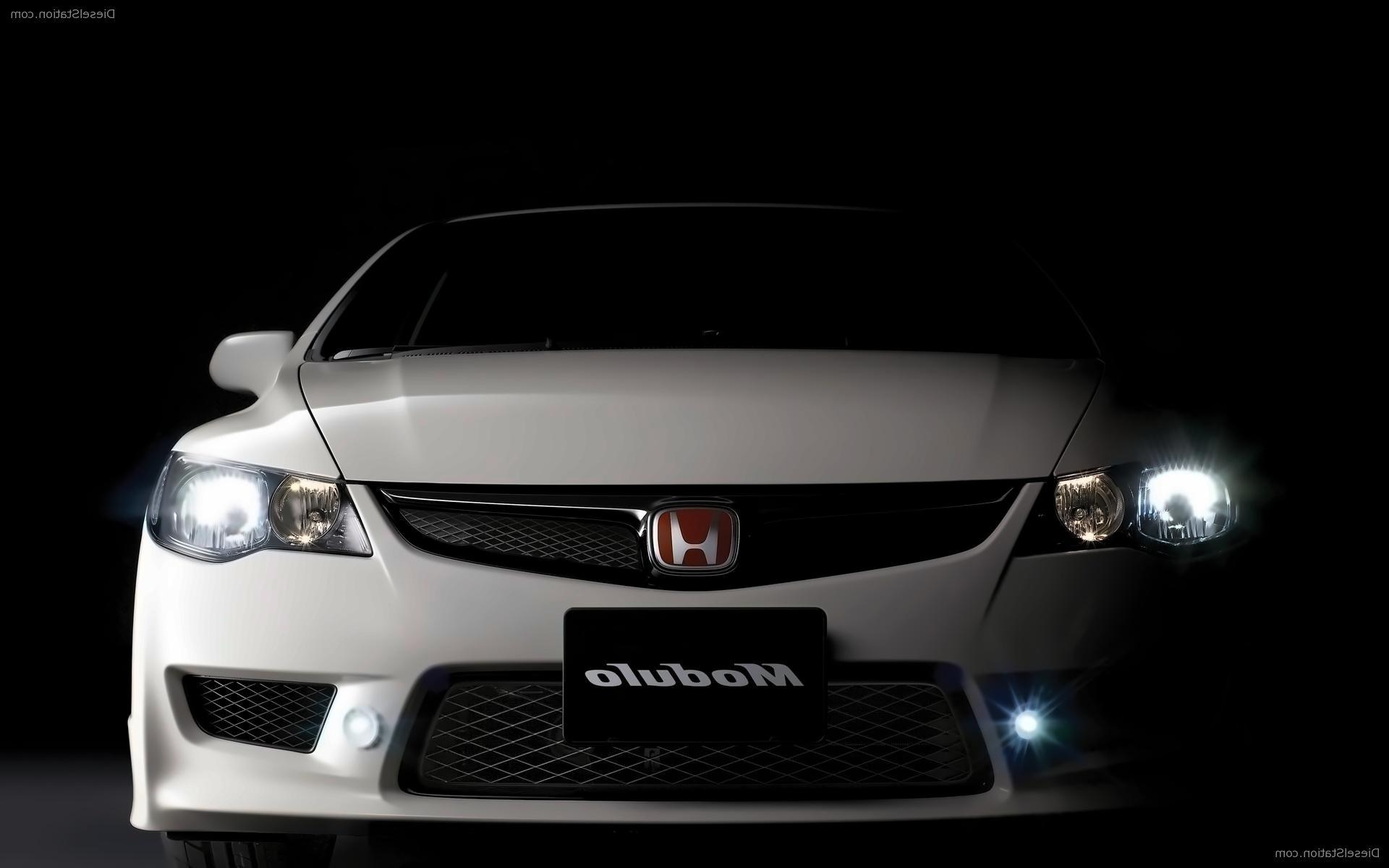Car hood: (287, 350, 1119, 491)
Front bumper: (123, 562, 1270, 866)
Headlight - -L-: (1006, 434, 1268, 568)
Headlight - -R-: (136, 442, 391, 575)
Side mirror - -R-: (191, 321, 312, 413)
